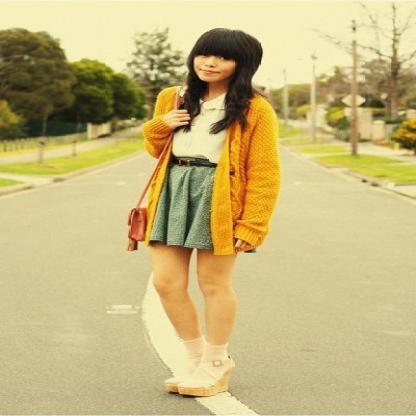bag: (128, 208, 161, 250)
jacket: (135, 87, 279, 254)
shirt: (167, 94, 224, 162)
shoe: (166, 333, 247, 396)
skirt: (149, 165, 215, 257)
